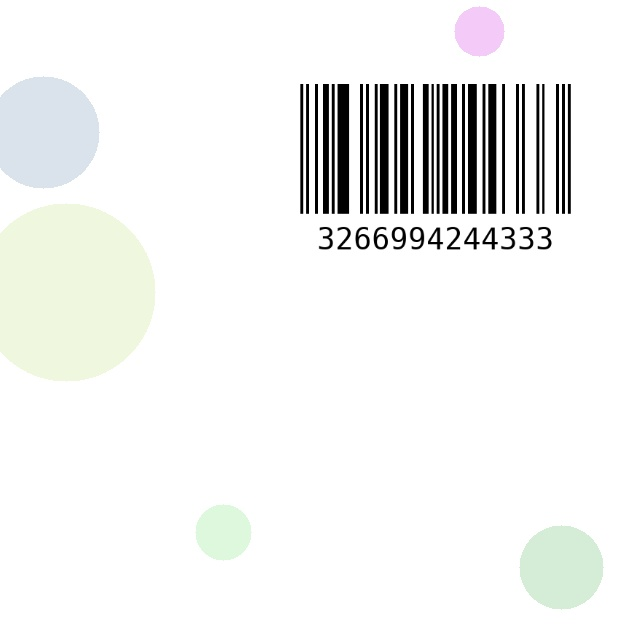barcode: (245, 76, 626, 280)
